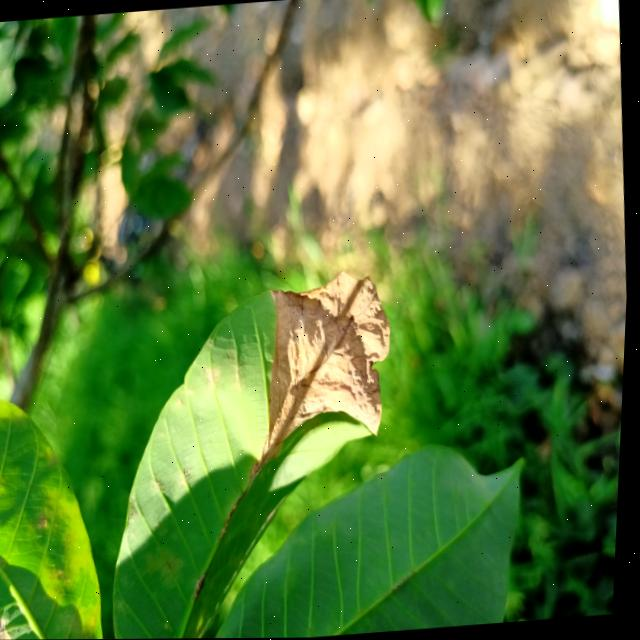Leaf-Blight: (240, 267, 405, 482), (0, 615, 26, 640)
